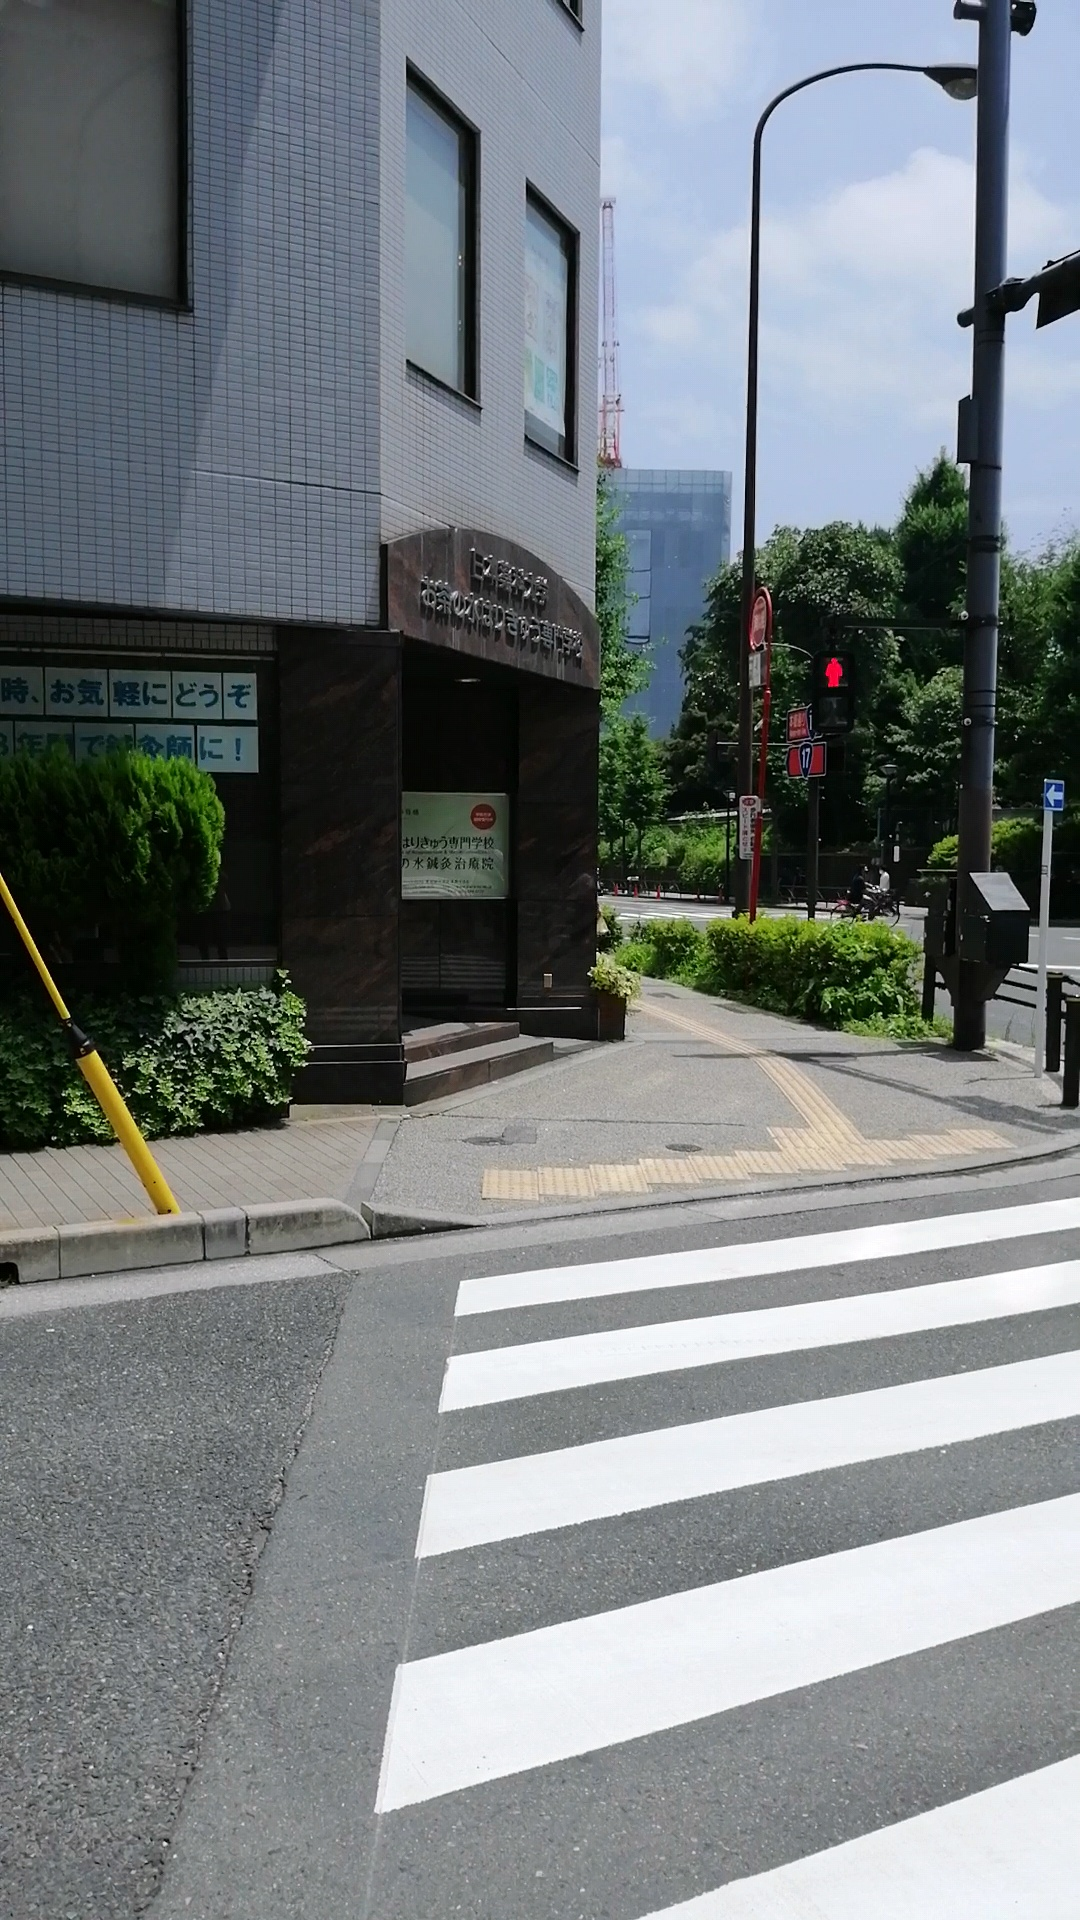red: (811, 649, 856, 733)
